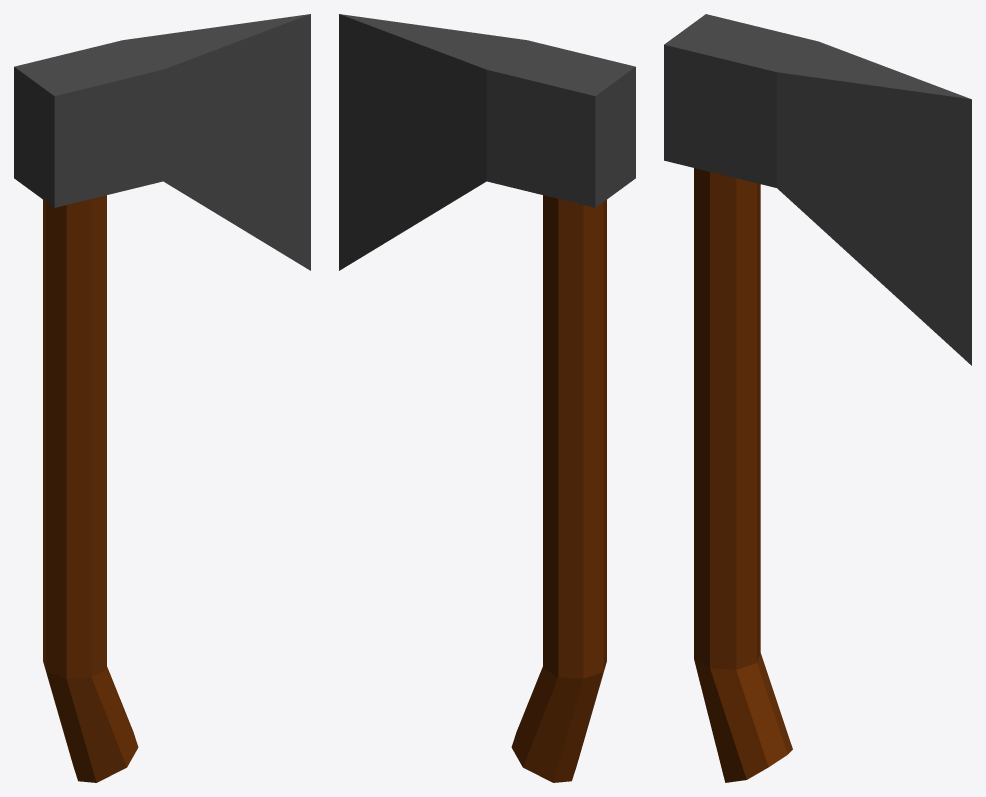
The model's file is Hacha.glb.
The picture shows the model from 3 angles, left to right: view 1: azimuth 30°, elevation 25°; view 2: azimuth 150°, elevation 25°; view 3: azimuth 330°, elevation 25°; orthographic projection. The views are drawn at different scales.
Visible parts, largest first — view 1: Cube.001, Cube; view 2: Cube.001, Cube; view 3: Cube.001, Cube.
Boxes of the visible parts, <box> form: Cube.001: <box>14,14,310,270</box>; Cube: <box>43,195,138,782</box>; Cube.001: <box>339,14,635,270</box>; Cube: <box>511,195,606,782</box>; Cube.001: <box>664,14,971,365</box>; Cube: <box>694,168,792,782</box>.
Bounding box in the file's own units: 2.47 × 6.06 × 0.6246.
